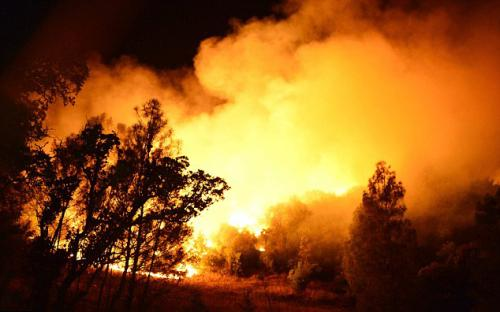fire: (201, 164, 336, 239)
smoke: (247, 22, 497, 147), (82, 67, 206, 128)
